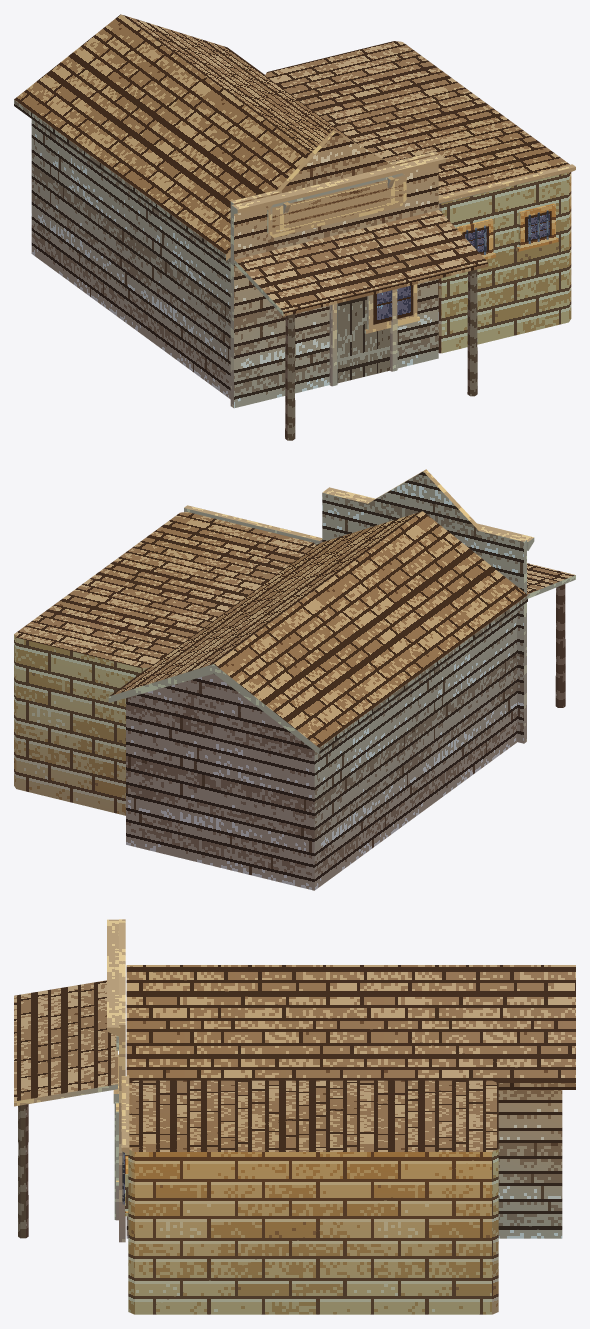
Rendered from wtown.sheriff.glb.
3 views of the same model, one above another, from view 1: azimuth 30°, elevation 25°; view 2: azimuth 150°, elevation 25°; view 3: azimuth 270°, elevation 25° (orthographic). The views are drawn at different scales.
Parts seen in each view (by area): view 1: kit_roof, kit_jail, kit_body, kit_front, kit_porch, kit_card_panes, kit_trim, kit_windows; view 2: kit_body, kit_roof, kit_jail, kit_front, kit_porch, kit_trim; view 3: kit_jail, kit_roof, kit_porch, kit_body, kit_trim, kit_front.
Boxes of the visible parts, box(x1,y1,x2,y2) form: kit_roof: box(14, 14, 439, 260); kit_jail: box(265, 41, 575, 353); kit_body: box(31, 119, 230, 399); kit_front: box(230, 130, 438, 408); kit_porch: box(234, 210, 487, 440); kit_card_panes: box(272, 176, 551, 383); kit_trim: box(231, 154, 445, 386); kit_windows: box(364, 203, 558, 333); kit_body: box(126, 610, 516, 890); kit_roof: box(108, 511, 527, 753); kit_jail: box(14, 505, 322, 815); kit_front: box(322, 469, 526, 743); kit_porch: box(527, 563, 575, 707); kit_trim: box(323, 487, 534, 550); kit_jail: box(121, 1076, 498, 1314); kit_roof: box(126, 965, 575, 1089); kit_porch: box(14, 980, 117, 1238); kit_body: box(126, 1090, 562, 1238); kit_trim: box(107, 919, 120, 1220); kit_front: box(119, 919, 125, 1242).
Size of the model in its own units: 7.85 by 5.4 by 10.32.
Materials: 9 (9 with a texture image).
